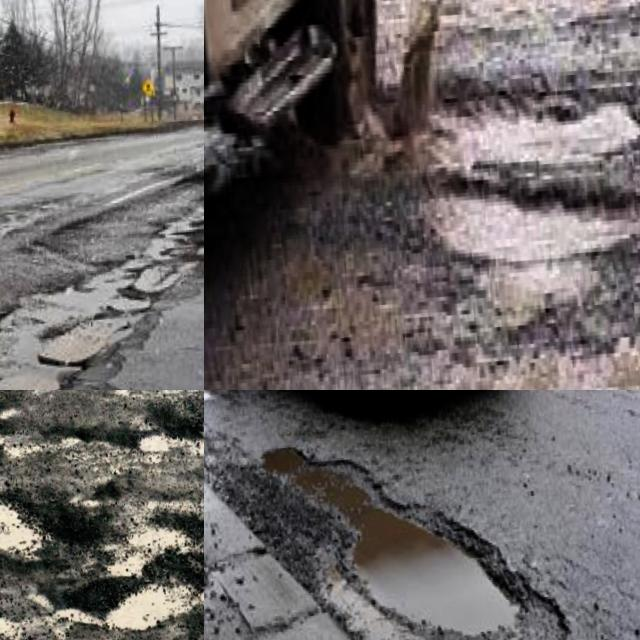Potholes: (219, 390, 604, 640), (403, 150, 640, 328), (427, 62, 640, 242), (246, 200, 408, 387), (0, 230, 151, 390), (456, 275, 640, 390), (0, 420, 106, 579), (117, 168, 204, 346), (95, 503, 204, 640), (416, 0, 640, 66)
